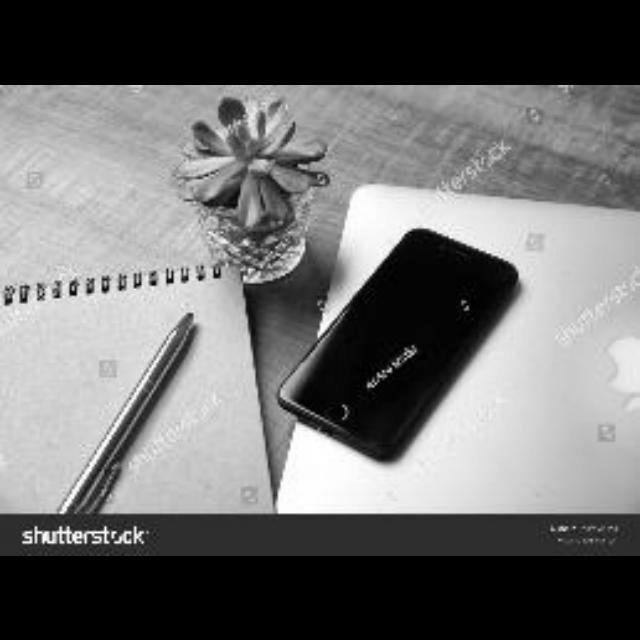fake: (272, 222, 512, 464)
